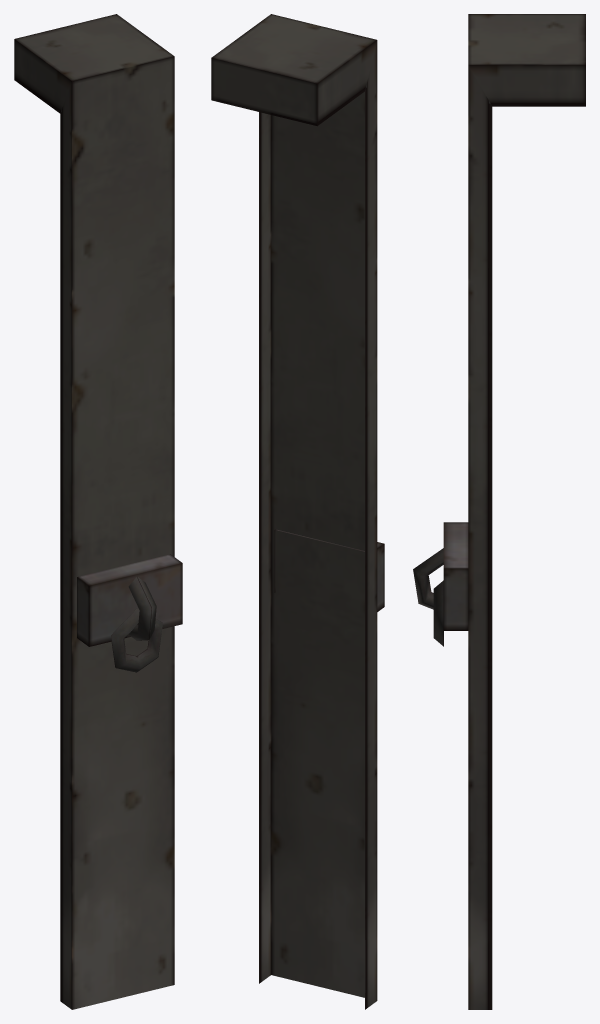
The model's file is 2_DG_JYZhuZi_02.FBX.
The picture shows the model from 3 angles, left to right: view 1: azimuth 30°, elevation 25°; view 2: azimuth 150°, elevation 25°; view 3: azimuth 270°, elevation 25°; orthographic projection. The views are drawn at different scales.
Parts seen in each view (by area): view 1: 2_DG_JYZhuZi_04, 2_DG_JYZhuZi_05; view 2: 2_DG_JYZhuZi_04, 2_DG_JYZhuZi_05; view 3: 2_DG_JYZhuZi_04, 2_DG_JYZhuZi_05.
Part boxes in pixels (x1,y1,x2,y2): 2_DG_JYZhuZi_04: (14, 14, 174, 1009); 2_DG_JYZhuZi_05: (77, 554, 182, 672); 2_DG_JYZhuZi_04: (211, 14, 377, 1009); 2_DG_JYZhuZi_05: (274, 529, 384, 611); 2_DG_JYZhuZi_04: (468, 14, 585, 1009); 2_DG_JYZhuZi_05: (413, 522, 468, 646).
Bounding box in the file's own units: 74.94 × 649 × 108.
Materials: 1 (1 with a texture image).
